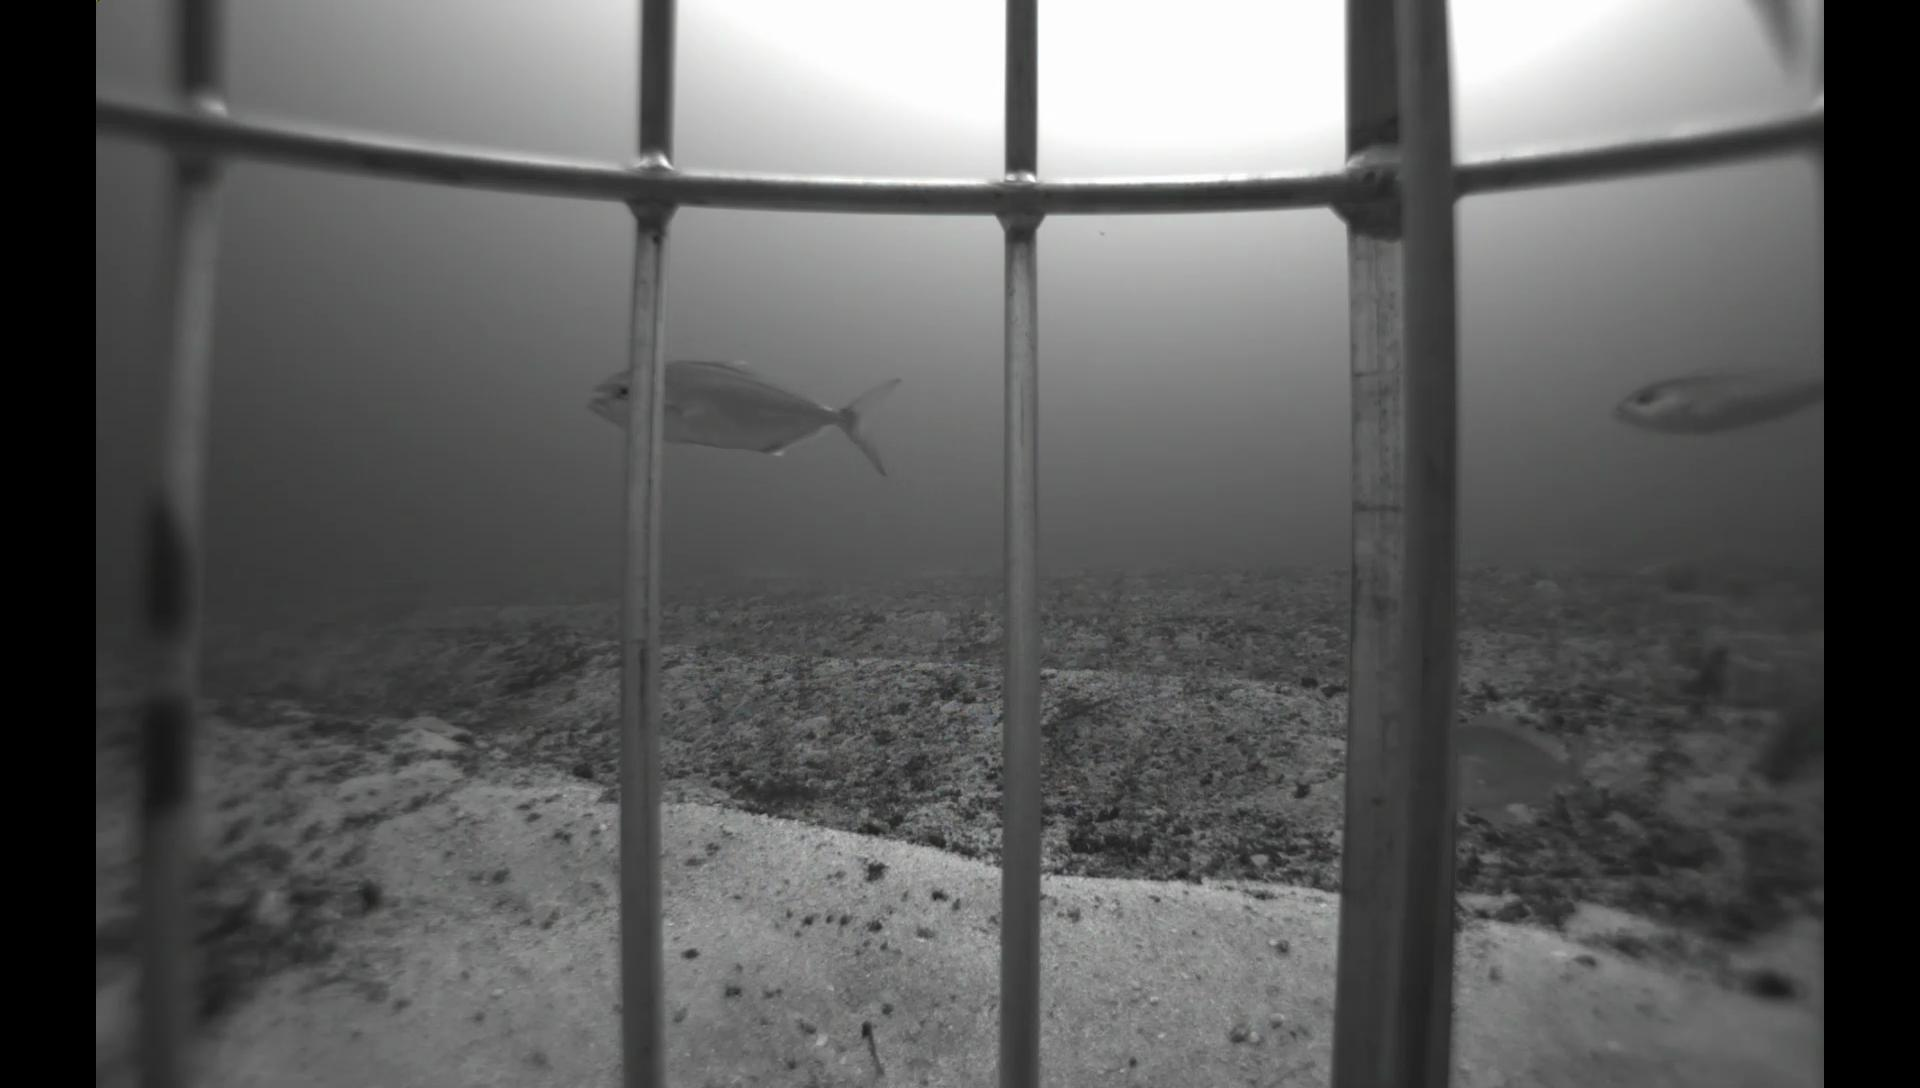CALAMUSPRORIDENS-170210605: (1452, 710, 1607, 827)
RHOMBOPLITESAURORUBENS-170152001: (1602, 344, 1822, 444), (1739, 692, 1822, 802), (1733, 1, 1809, 96)
SERIOLAFASCIATA-170113103: (574, 353, 916, 488)
